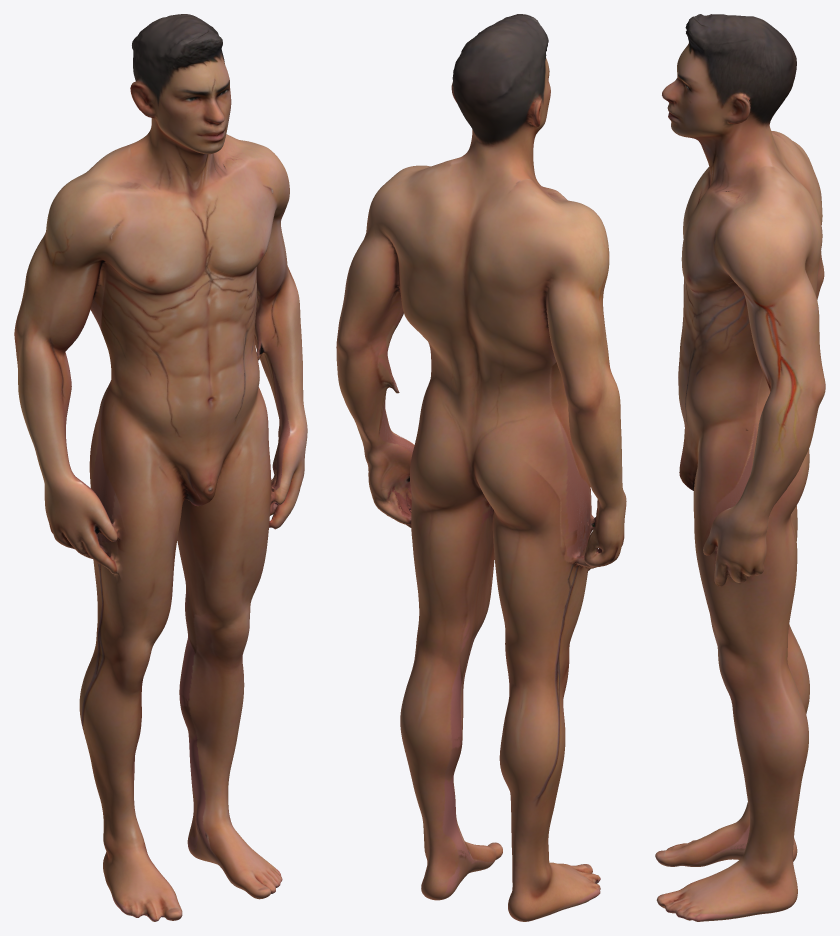
The model's file is malehumanbody.glb.
The picture shows the model from 3 angles, left to right: view 1: azimuth 30°, elevation 25°; view 2: azimuth 150°, elevation 25°; view 3: azimuth 270°, elevation 25°; orthographic projection.
Bounding box in the file's own units: 0.6614 × 1.99 × 0.353.
Materials: 1 (1 with a texture image).
